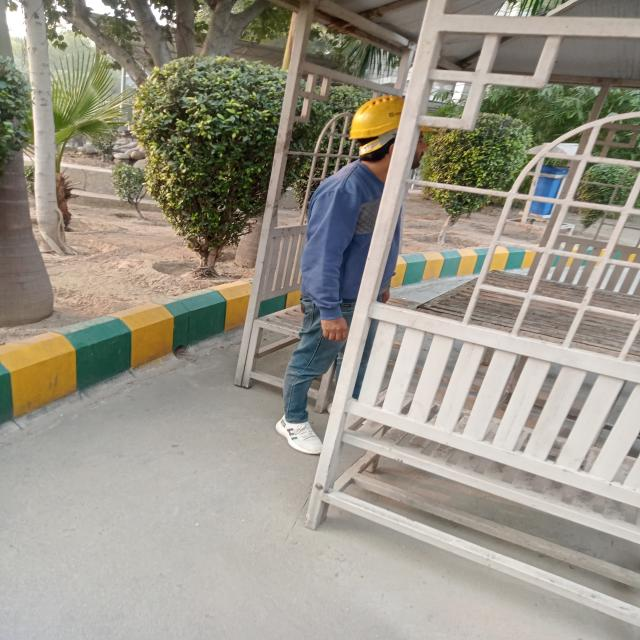no jacket: (277, 93, 417, 457)
